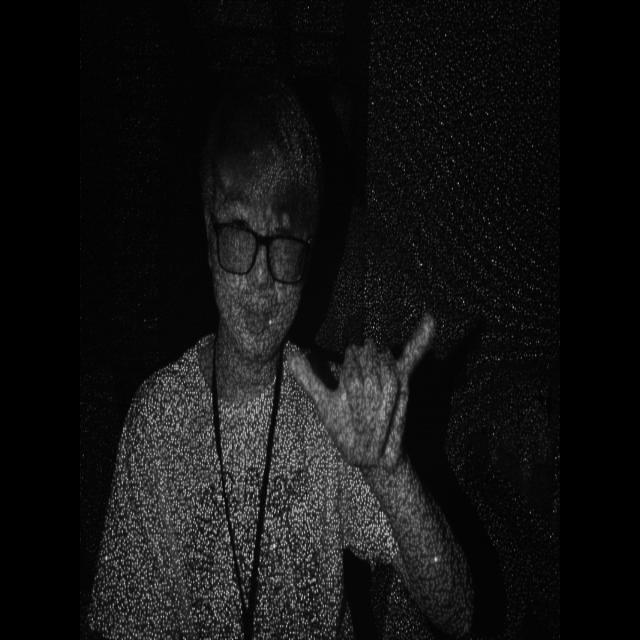Y: (274, 292, 450, 490)
